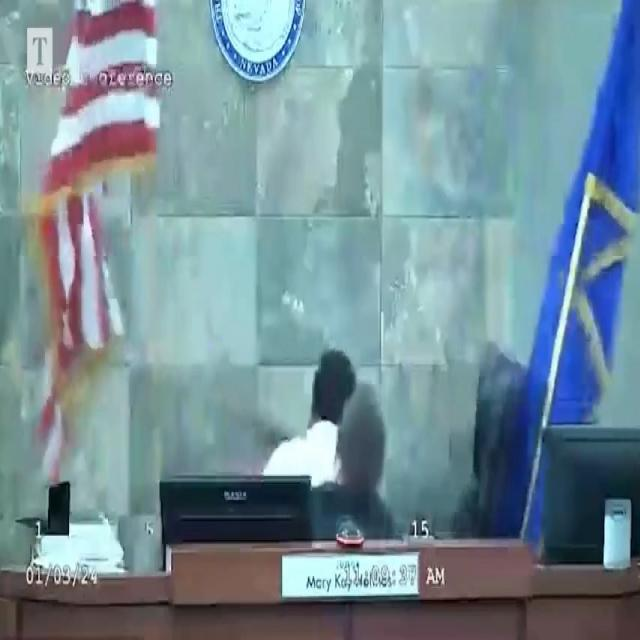non-fight: (264, 341, 402, 535)
